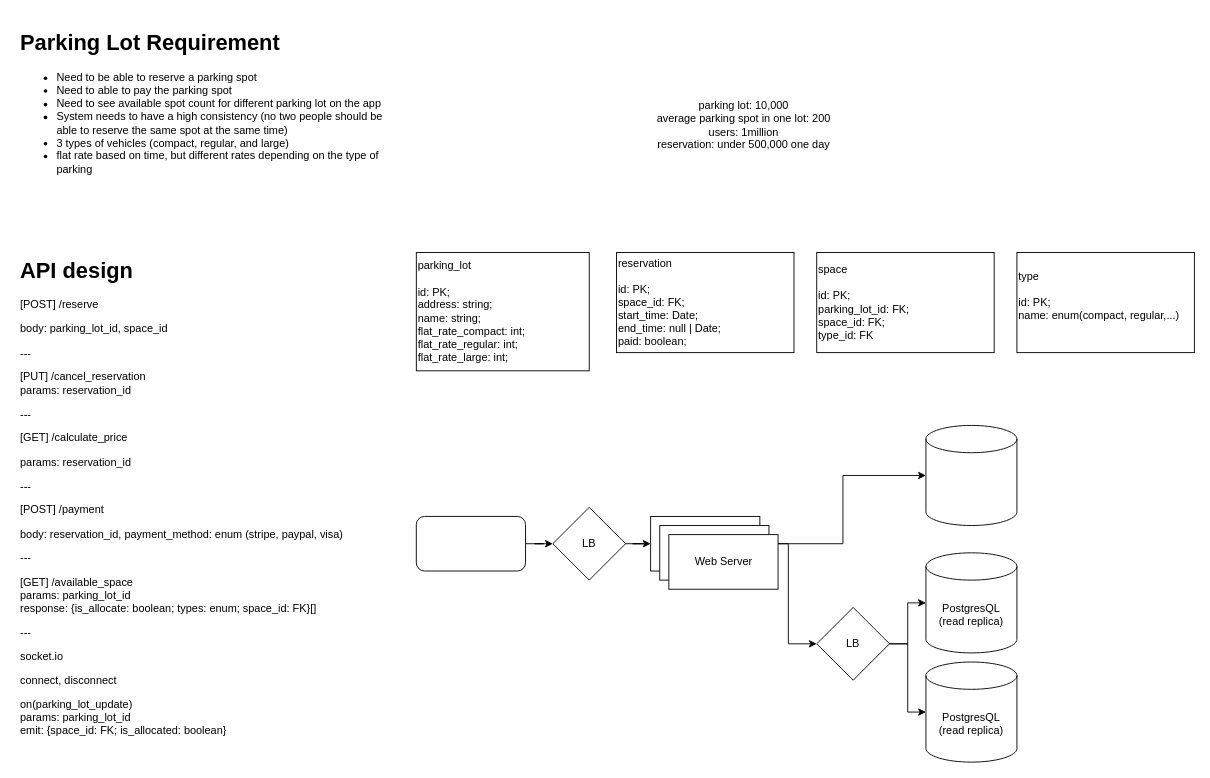
Image size: 1210x778. Some labels were removed from this diagram. Here are the shapes that lost their labels. From the top down, the centre of each, then its label:
(x=971, y=475): PostgresQL (write)
(x=470, y=543): Mobile / Web App
